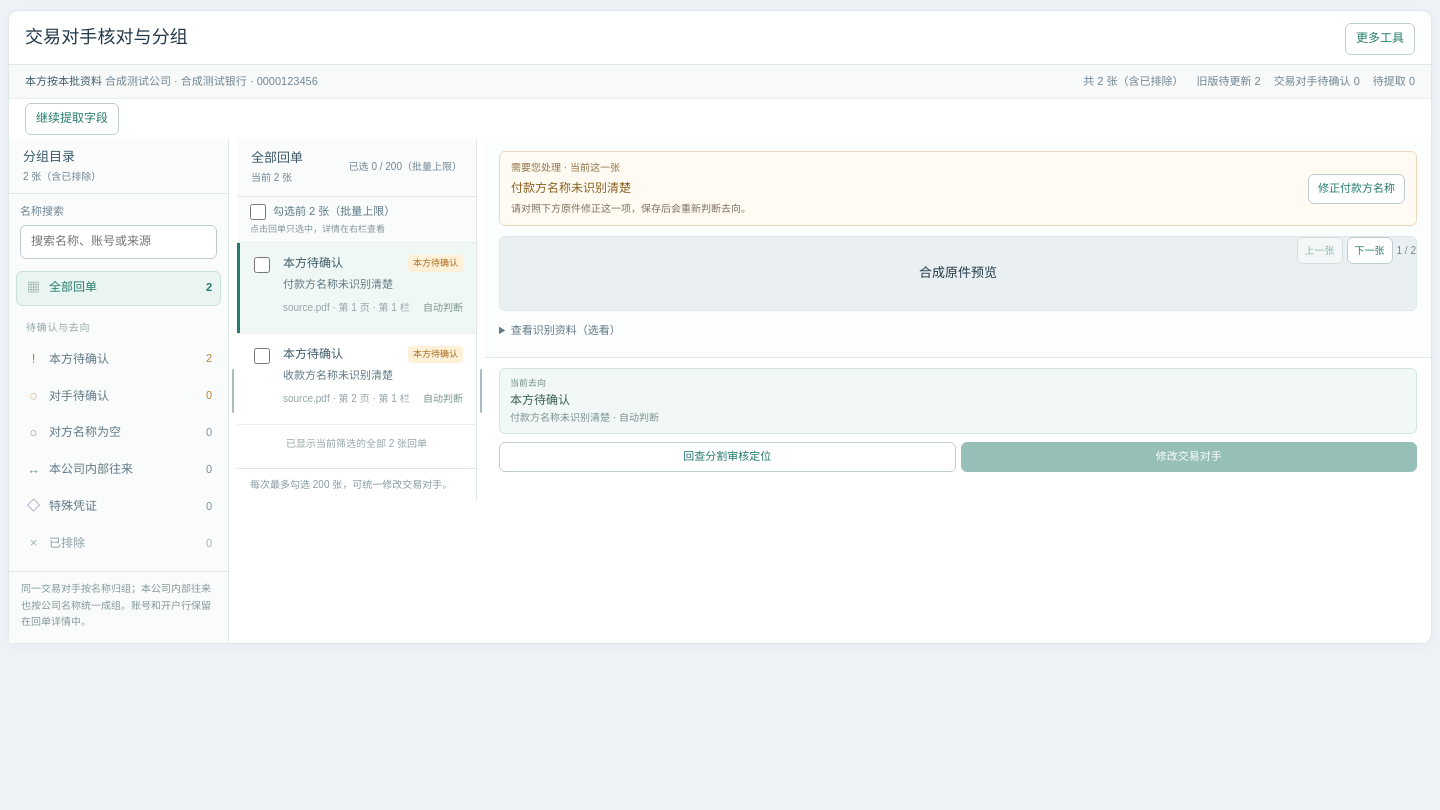
分组需要处理卡与简单确认 › 取消快捷修正不保存，切到下一张不沿用上一张的字段目标
Click the button "修正付款方名称" at (1356, 189), box [1308, 174, 1405, 204]
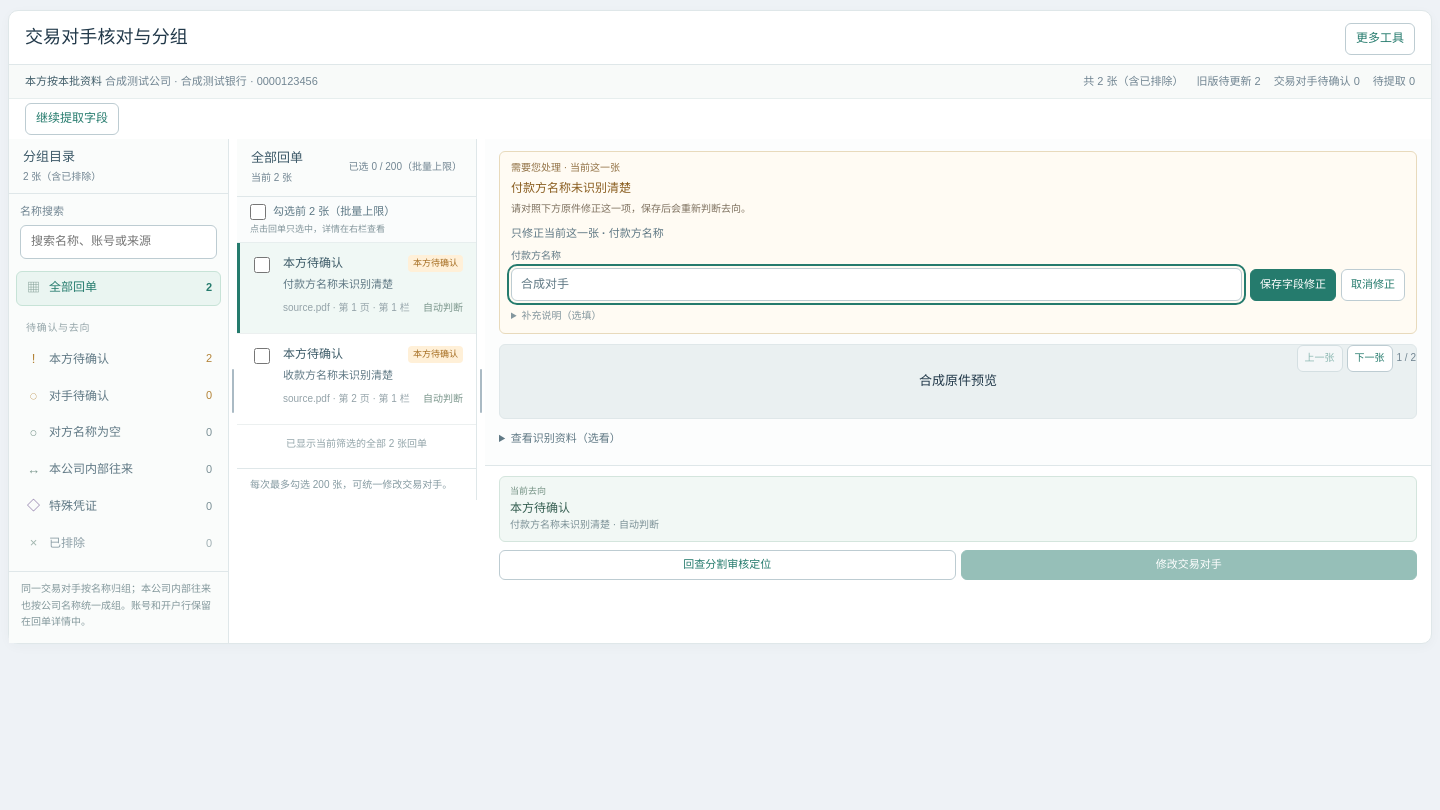
Click the button "取消修正" at (1373, 285), box [1341, 269, 1405, 301]
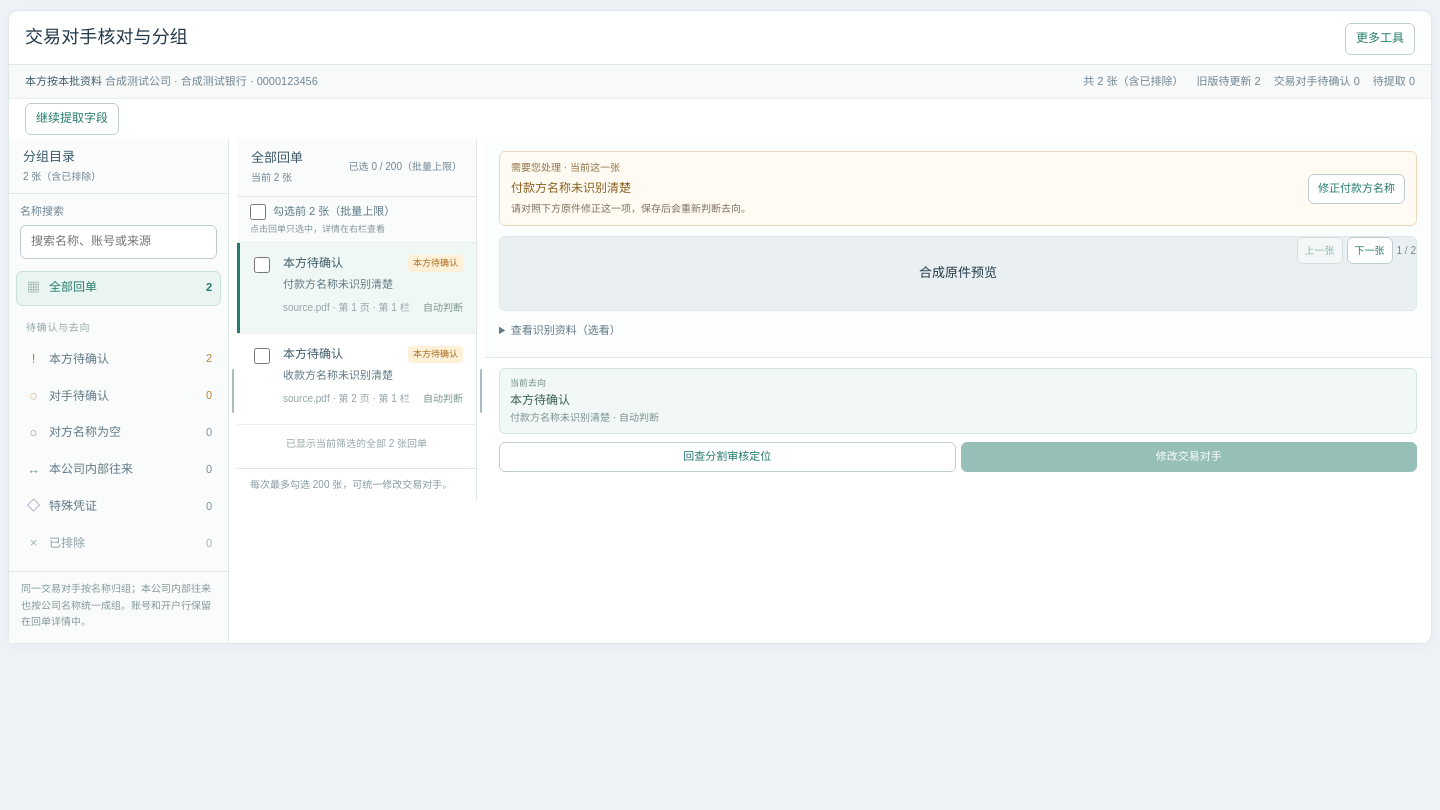
Check: the field labelled "字段修正值" is gone
Click the button "修正付款方名称" at (1356, 189), box [1308, 174, 1405, 204]
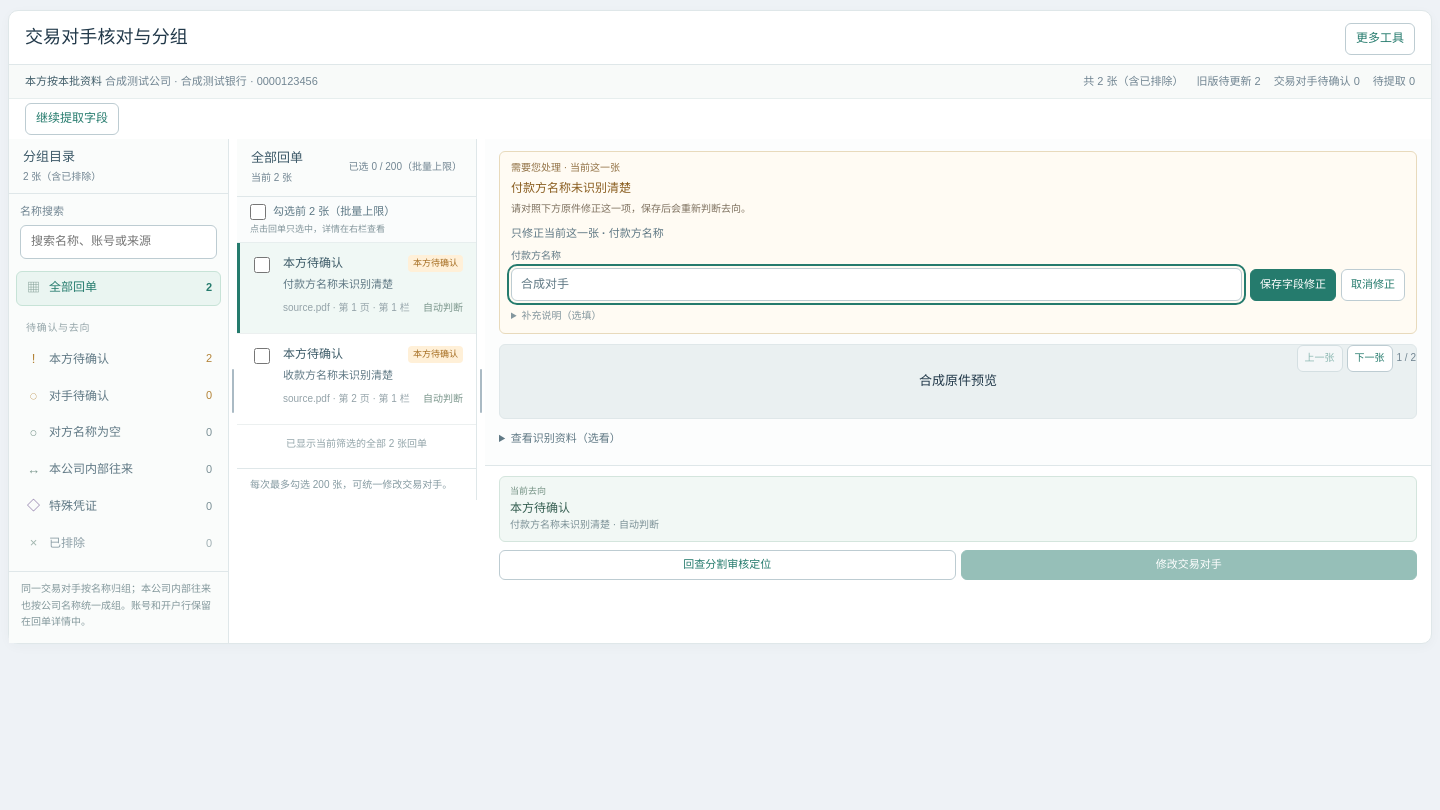
Click the button "下一张" at (1370, 358), box [1346, 345, 1392, 372]
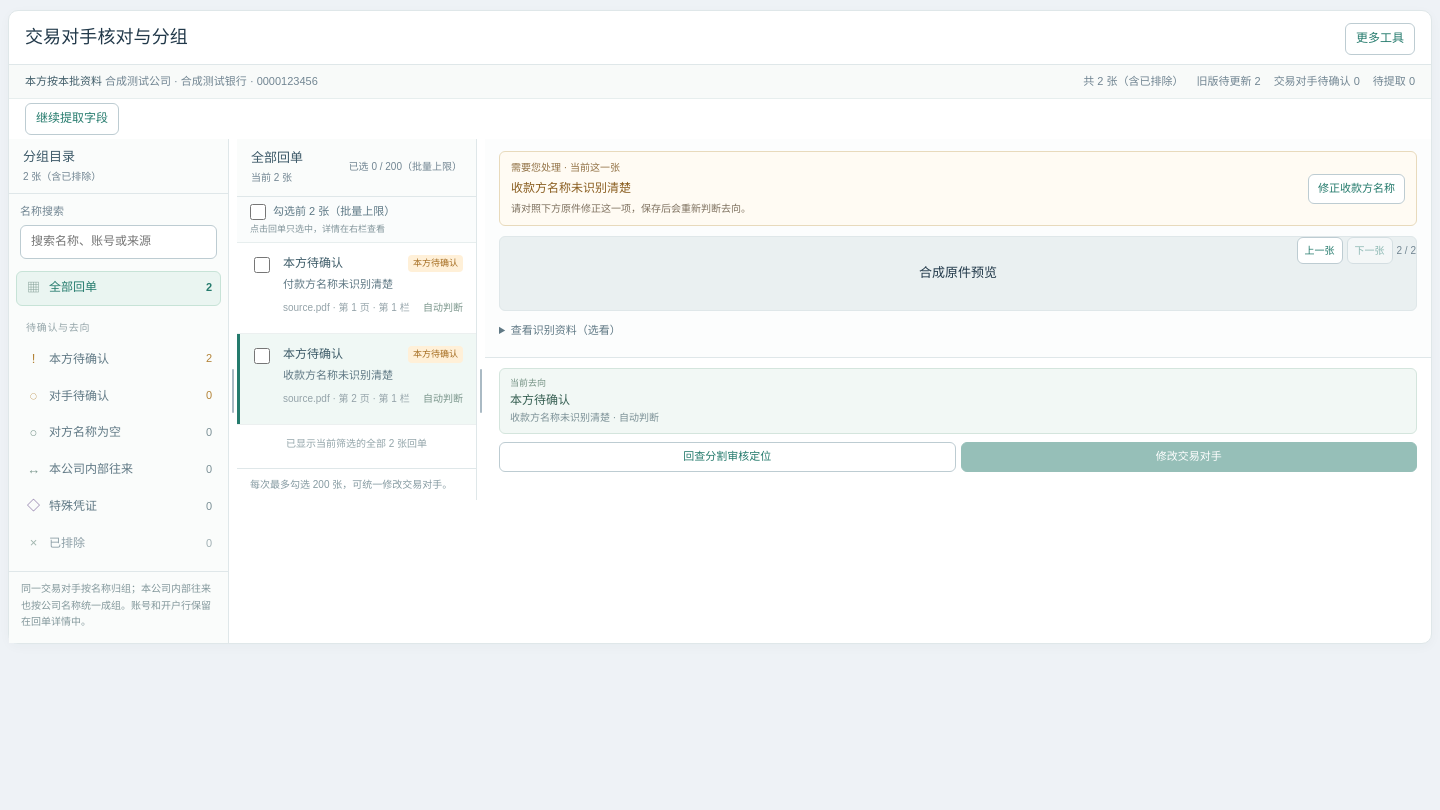
Check: the field labelled "字段修正值" is gone
Check: the button "修正收款方名称" is shown, box [1308, 174, 1405, 204]
